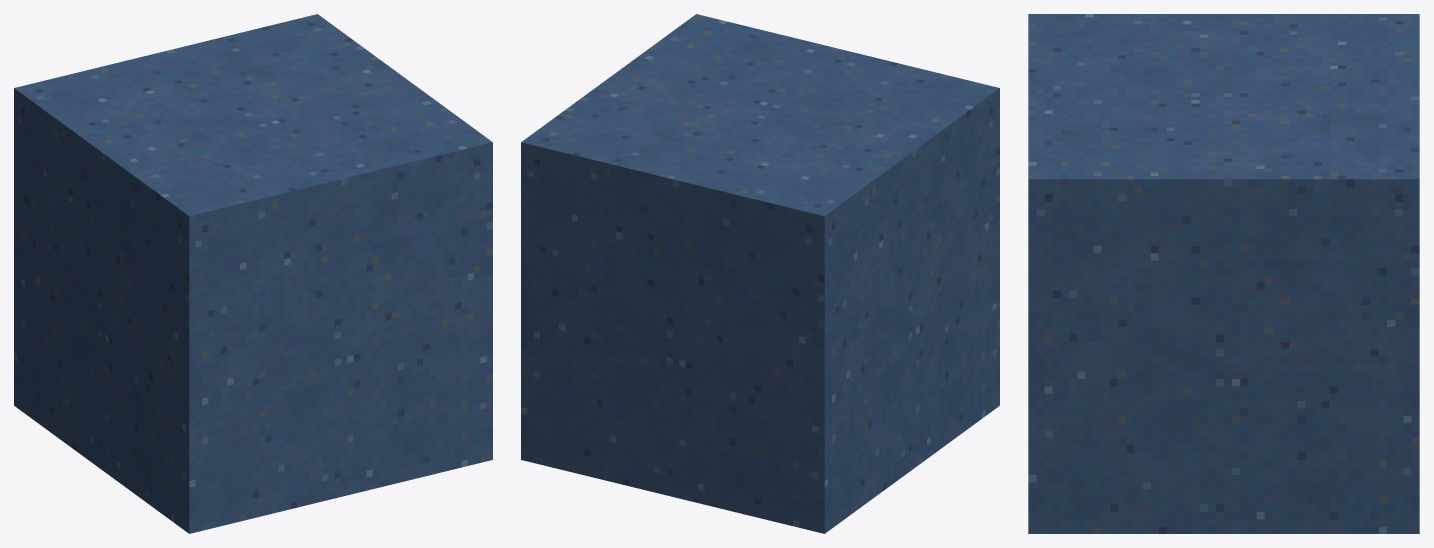
The model's file is water.obj.
3 renders of one model, left to right at view 1: azimuth 30°, elevation 25°; view 2: azimuth 150°, elevation 25°; view 3: azimuth 270°, elevation 25°, orthographic. The views are drawn at different scales.
Bounding box in the file's own units: 1 × 1 × 1.
